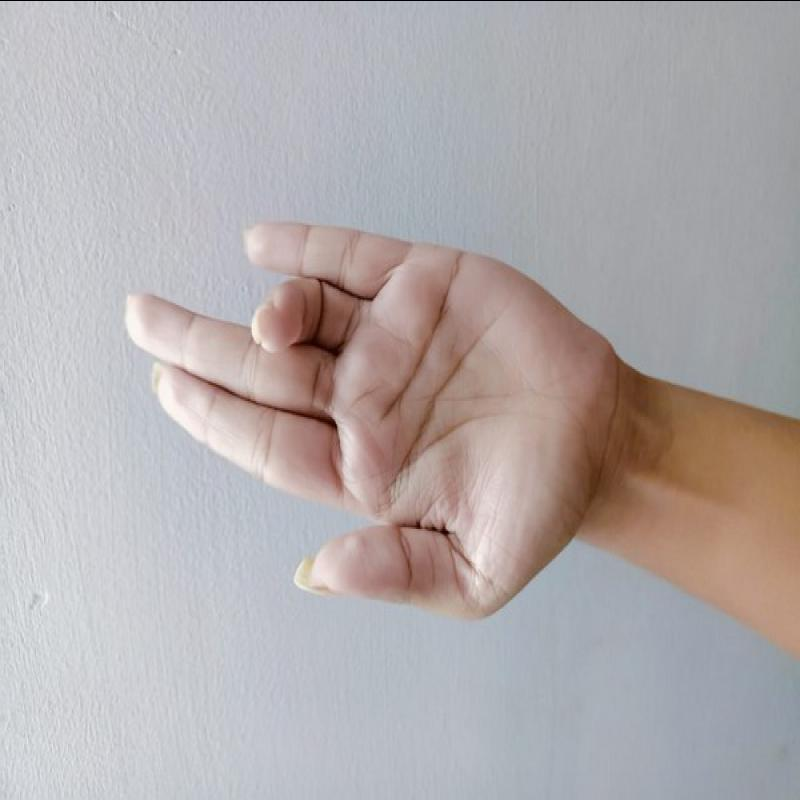Pathaaka: (107, 201, 614, 628)
